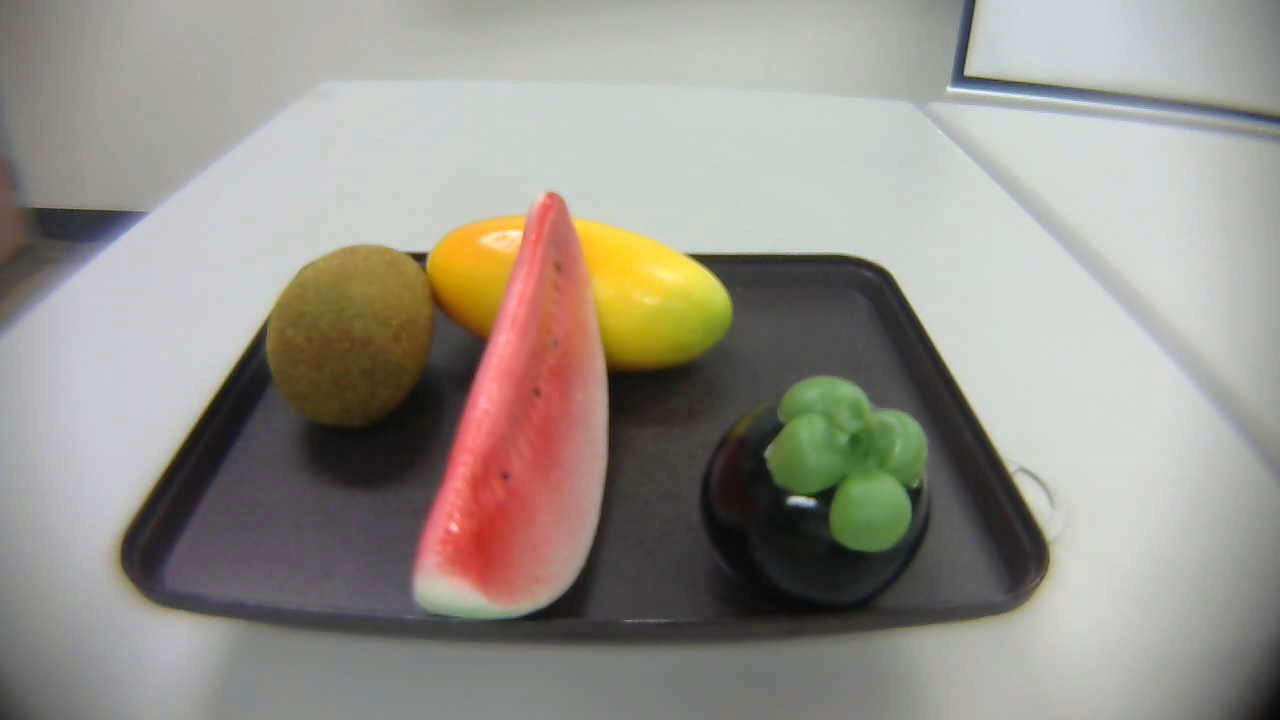kiwi fruit: (266, 237, 438, 432)
mangosteen: (697, 370, 938, 604)
water melon: (407, 186, 623, 636)
yellow mango: (415, 201, 737, 386)
